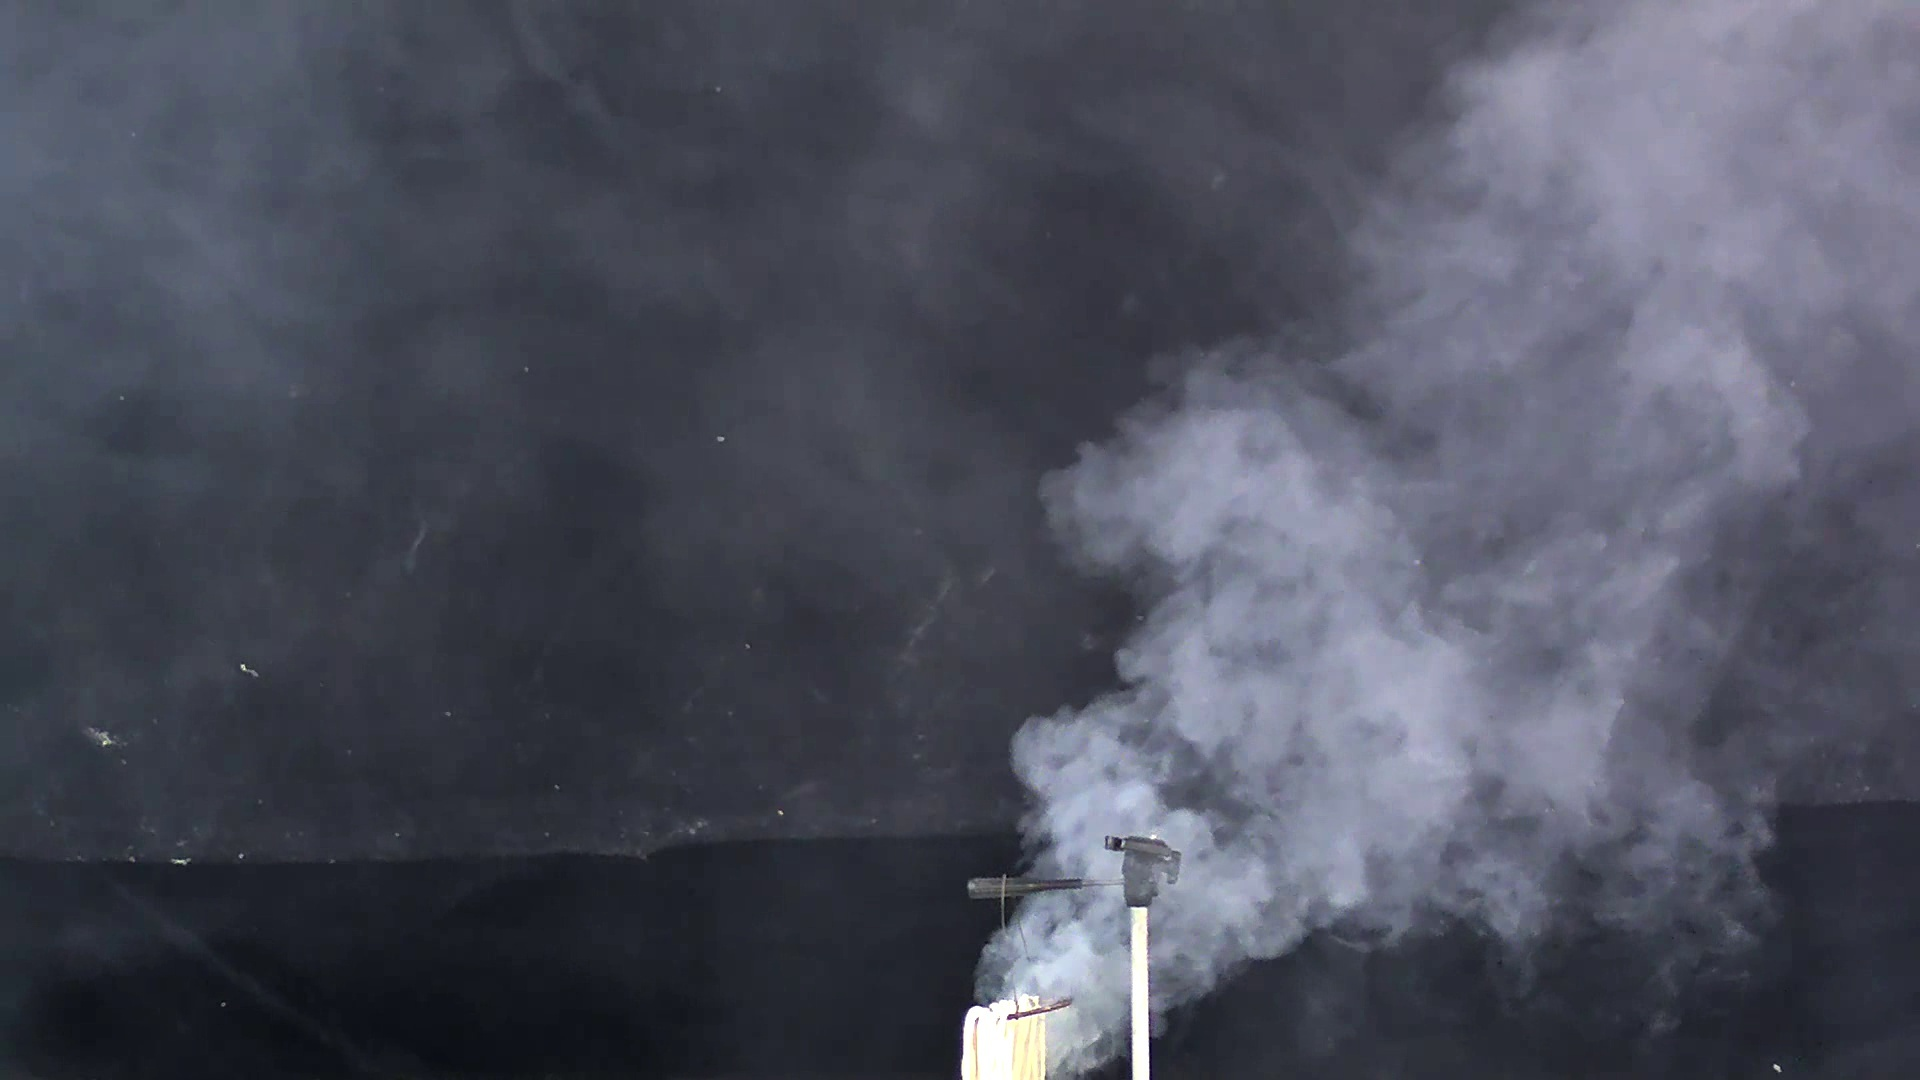smoke: (994, 18, 1888, 1009)
